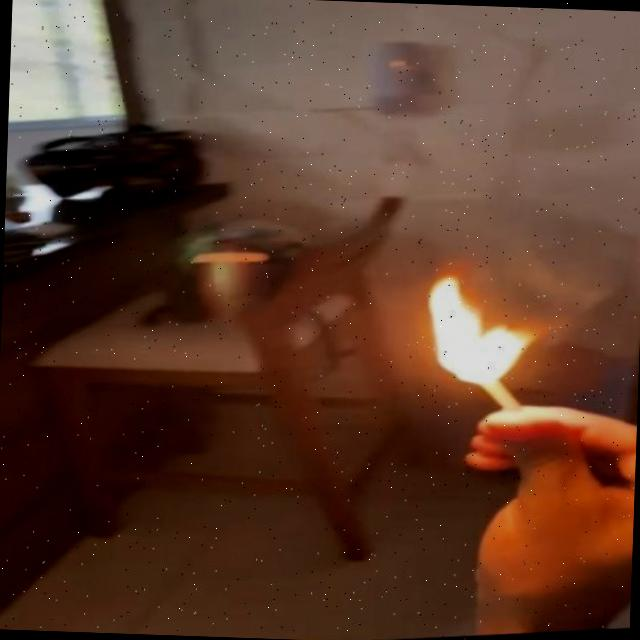fire: (421, 267, 542, 401)
